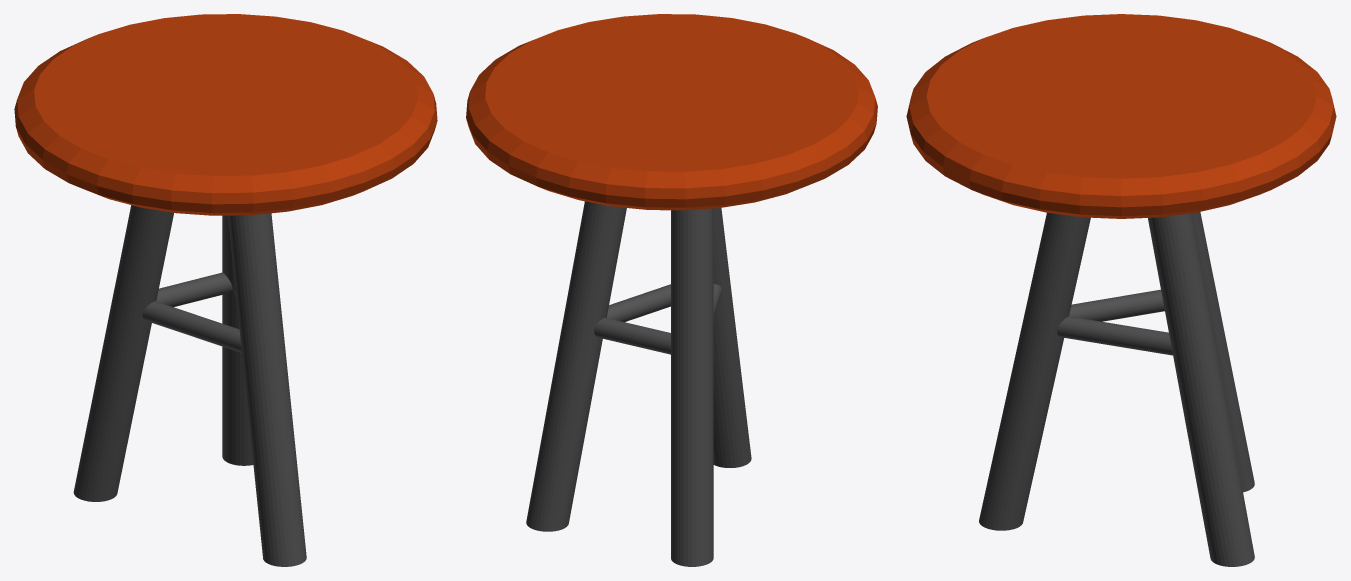
The model's file is woodenchair.fbx.
The picture shows the model from 3 angles, left to right: view 1: azimuth 30°, elevation 25°; view 2: azimuth 150°, elevation 25°; view 3: azimuth 270°, elevation 25°; orthographic projection. The views are drawn at different scales.
Visible parts, largest first — view 1: Circle, Cylinder.002; view 2: Circle, Cylinder.002; view 3: Circle, Cylinder.002.
Boxes of the visible parts, x1,y1,x2,y2 form: Circle: [14, 14, 437, 215]; Cylinder.002: [73, 205, 306, 566]; Circle: [466, 14, 877, 210]; Cylinder.002: [526, 201, 751, 566]; Circle: [906, 14, 1336, 218]; Cylinder.002: [979, 212, 1254, 566].
Bounding box in the file's own units: 221 × 241 × 221.
